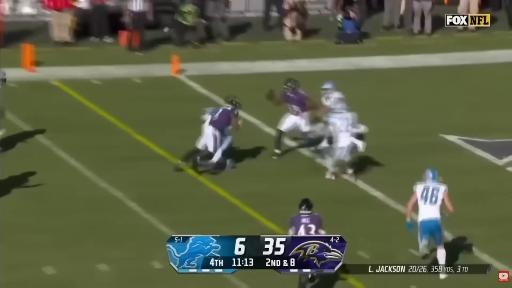Helmet: (331, 98, 349, 114), (299, 198, 313, 213), (321, 81, 335, 95), (284, 78, 299, 91), (423, 169, 438, 181), (226, 97, 241, 109), (203, 107, 217, 119), (321, 81, 335, 90), (0, 71, 6, 85)
Jersey: (414, 182, 447, 222), (326, 112, 357, 146), (289, 213, 324, 235), (210, 107, 237, 133), (281, 90, 308, 115), (322, 92, 347, 113), (202, 108, 221, 125)
Player: (319, 82, 367, 179), (406, 169, 453, 265), (266, 78, 316, 158), (193, 97, 241, 171), (175, 107, 222, 171), (175, 107, 219, 171), (288, 199, 326, 235), (288, 199, 325, 235)
